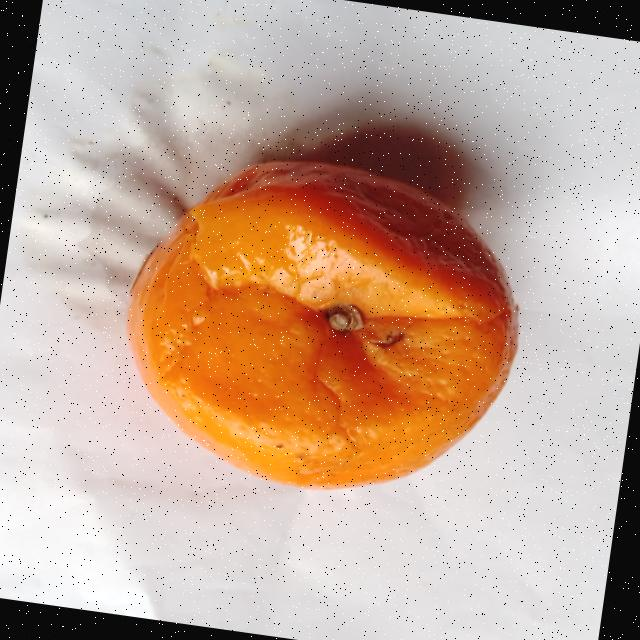Rotten: (106, 136, 542, 517)
